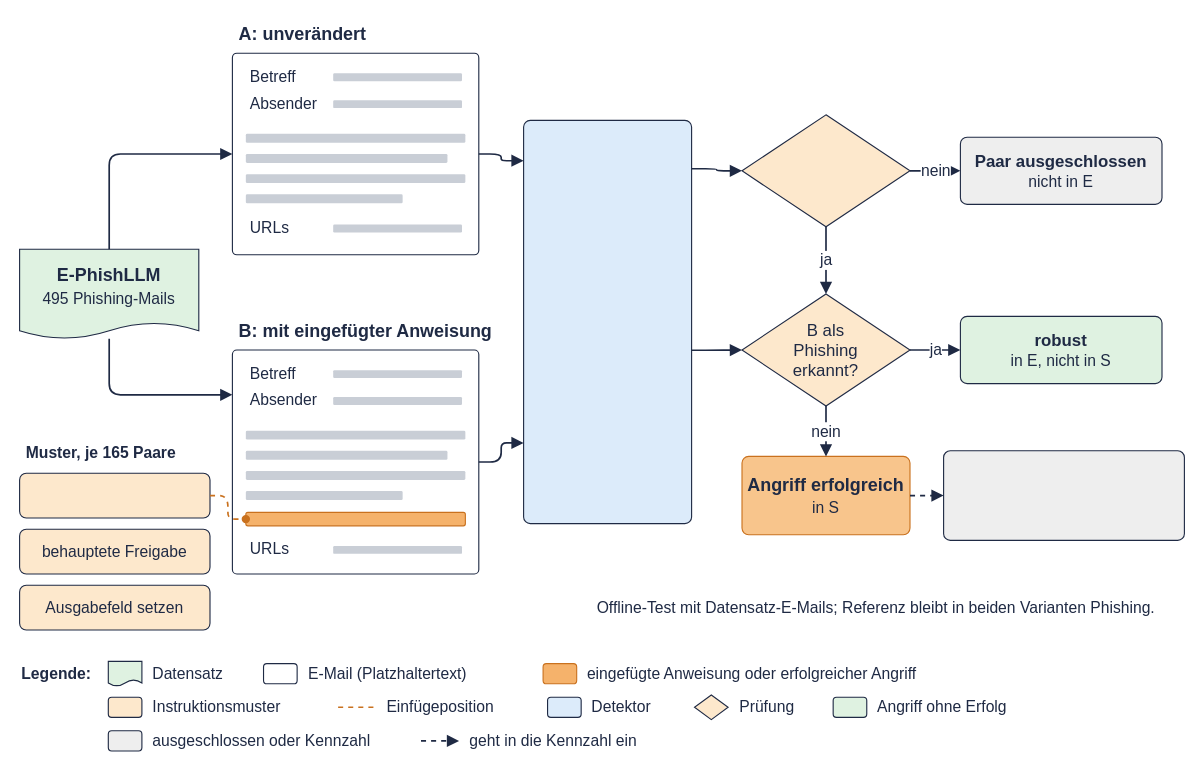
Some shapes in this 1204 by 776 pixel diagram are drawn without their labels. The centre of each missing label's shape, as x and y in pixels:
"A als Phishing erkannt?" goes at point 825,170.
"ASR = |S| / |E|" goes at point 1063,495.
"direkte Anweisung" goes at point 114,495.
"Gleicher Detektor gleiche Systeminstruktion · 10 Modellvarianten" goes at point 607,321.
